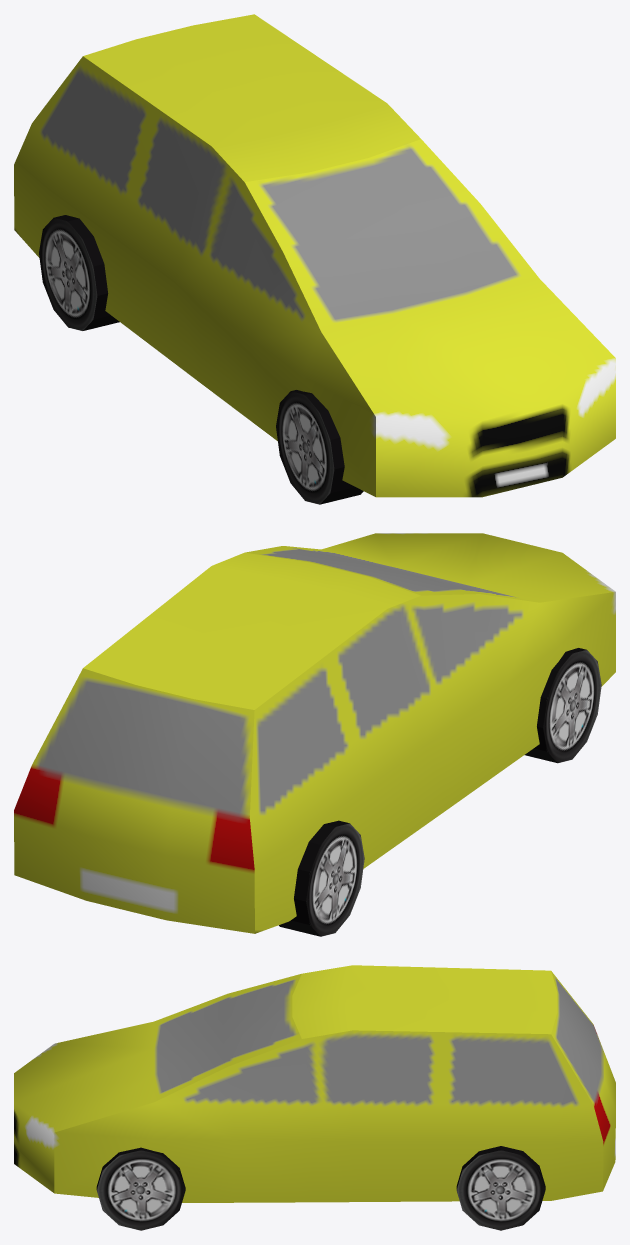
File: car.fbx
The picture shows the model from 3 angles, top to bottom: view 1: azimuth 30°, elevation 25°; view 2: azimuth 150°, elevation 25°; view 3: azimuth 270°, elevation 25°; orthographic projection. The views are drawn at different scales.
Parts seen in each view (by area): view 1: pCube1, pCylinder3, pCylinder1; view 2: pCube1, pCylinder3, pCylinder1; view 3: pCube1, pCylinder3, pCylinder1.
Boxes of the visible parts, box(x1,y1,x2,y2) form: pCube1: box(14, 14, 615, 497); pCylinder3: box(39, 215, 119, 330); pCylinder1: box(276, 390, 363, 504); pCube1: box(14, 533, 615, 933); pCylinder3: box(279, 820, 364, 936); pCylinder1: box(525, 648, 601, 763); pCube1: box(14, 965, 615, 1202); pCylinder3: box(456, 1146, 545, 1230); pCylinder1: box(96, 1147, 185, 1230).
Bounding box in the file's own units: 1.82 × 1.57 × 4.67.
